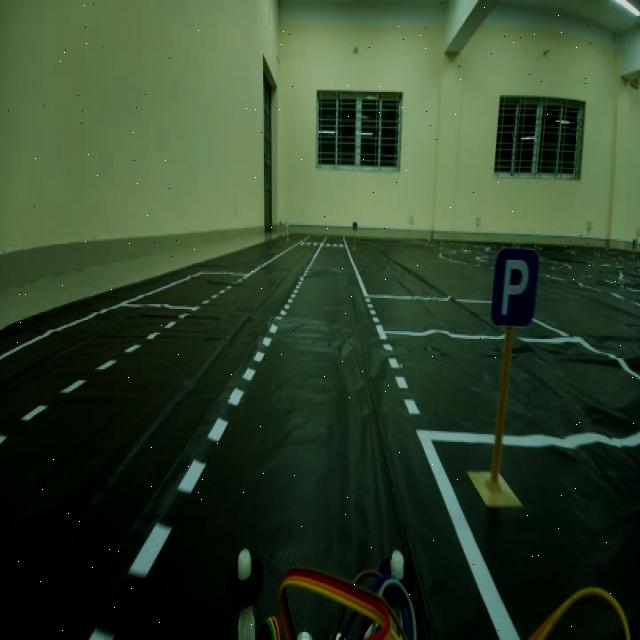parking: (484, 245, 540, 338)
